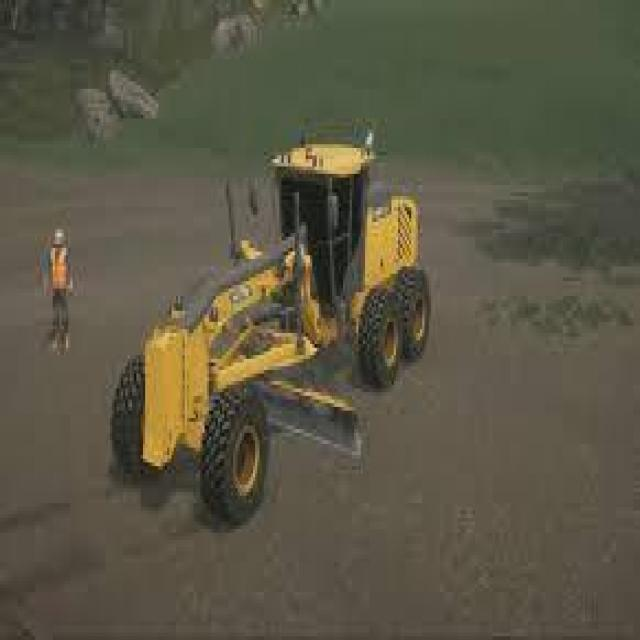Grader: (86, 129, 466, 544)
